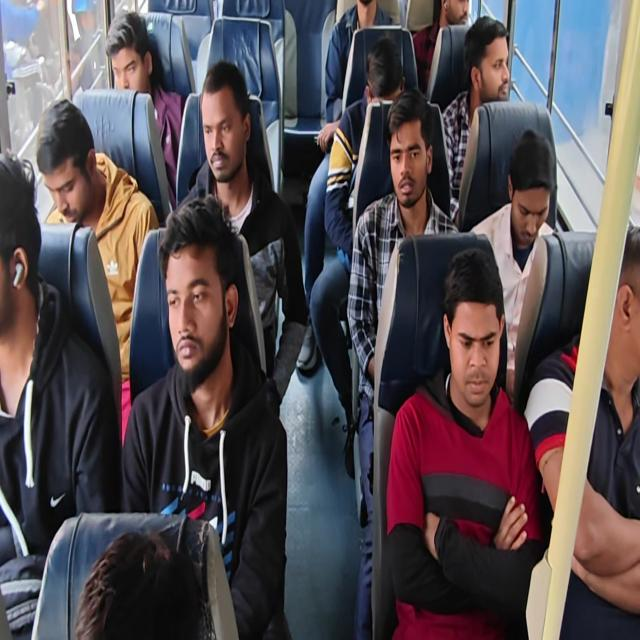person: (1, 1, 638, 638), (120, 194, 290, 638), (346, 87, 460, 638), (386, 246, 544, 638), (0, 148, 121, 638), (524, 224, 639, 638), (176, 60, 308, 415), (35, 98, 160, 446), (308, 35, 406, 476), (469, 128, 556, 404), (105, 9, 186, 205), (73, 529, 208, 639), (440, 15, 510, 224), (320, 0, 398, 150), (412, 0, 469, 95)
